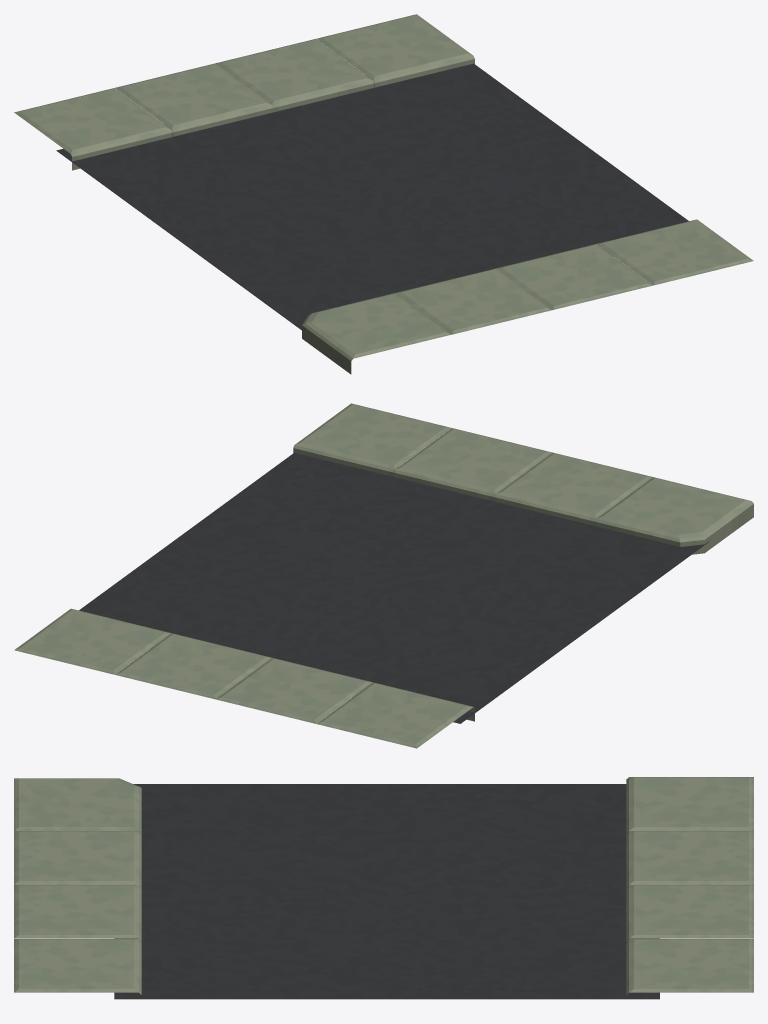
The model's file is RoadTurnLeft.fbx.
3 renders of one model, top to bottom at view 1: azimuth 30°, elevation 25°; view 2: azimuth 150°, elevation 25°; view 3: azimuth 270°, elevation 25°, orthographic. The views are drawn at different scales.
Parts seen in each view (by area): view 1: RoadTile, SidewalkStraight, SidewalkCorner; view 2: RoadTile, SidewalkStraight, SidewalkCorner; view 3: RoadTile, SidewalkStraight, SidewalkCorner.
Part boxes in pixels (<box>): RoadTile: <box>56,63,688,332</box>; SidewalkStraight: <box>14,14,753,334</box>; SidewalkCorner: <box>302,293,451,374</box>; RoadTile: <box>79,452,708,723</box>; SidewalkStraight: <box>14,403,652,748</box>; SidewalkCorner: <box>595,477,753,554</box>; RoadTile: <box>114,784,659,999</box>; SidewalkStraight: <box>14,777,753,994</box>; SidewalkCorner: <box>14,778,141,832</box>.
Size of the model in its own units: 802 by 32.73 by 1161.
